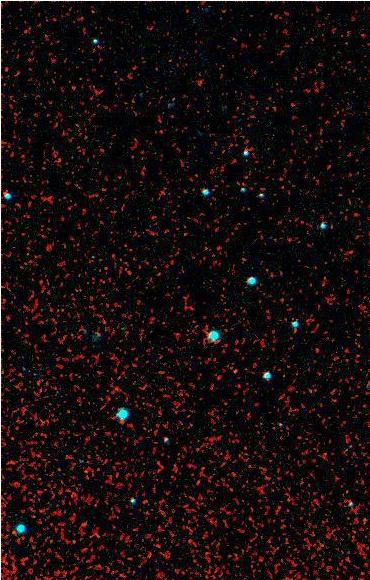star: (186, 69, 216, 99)
